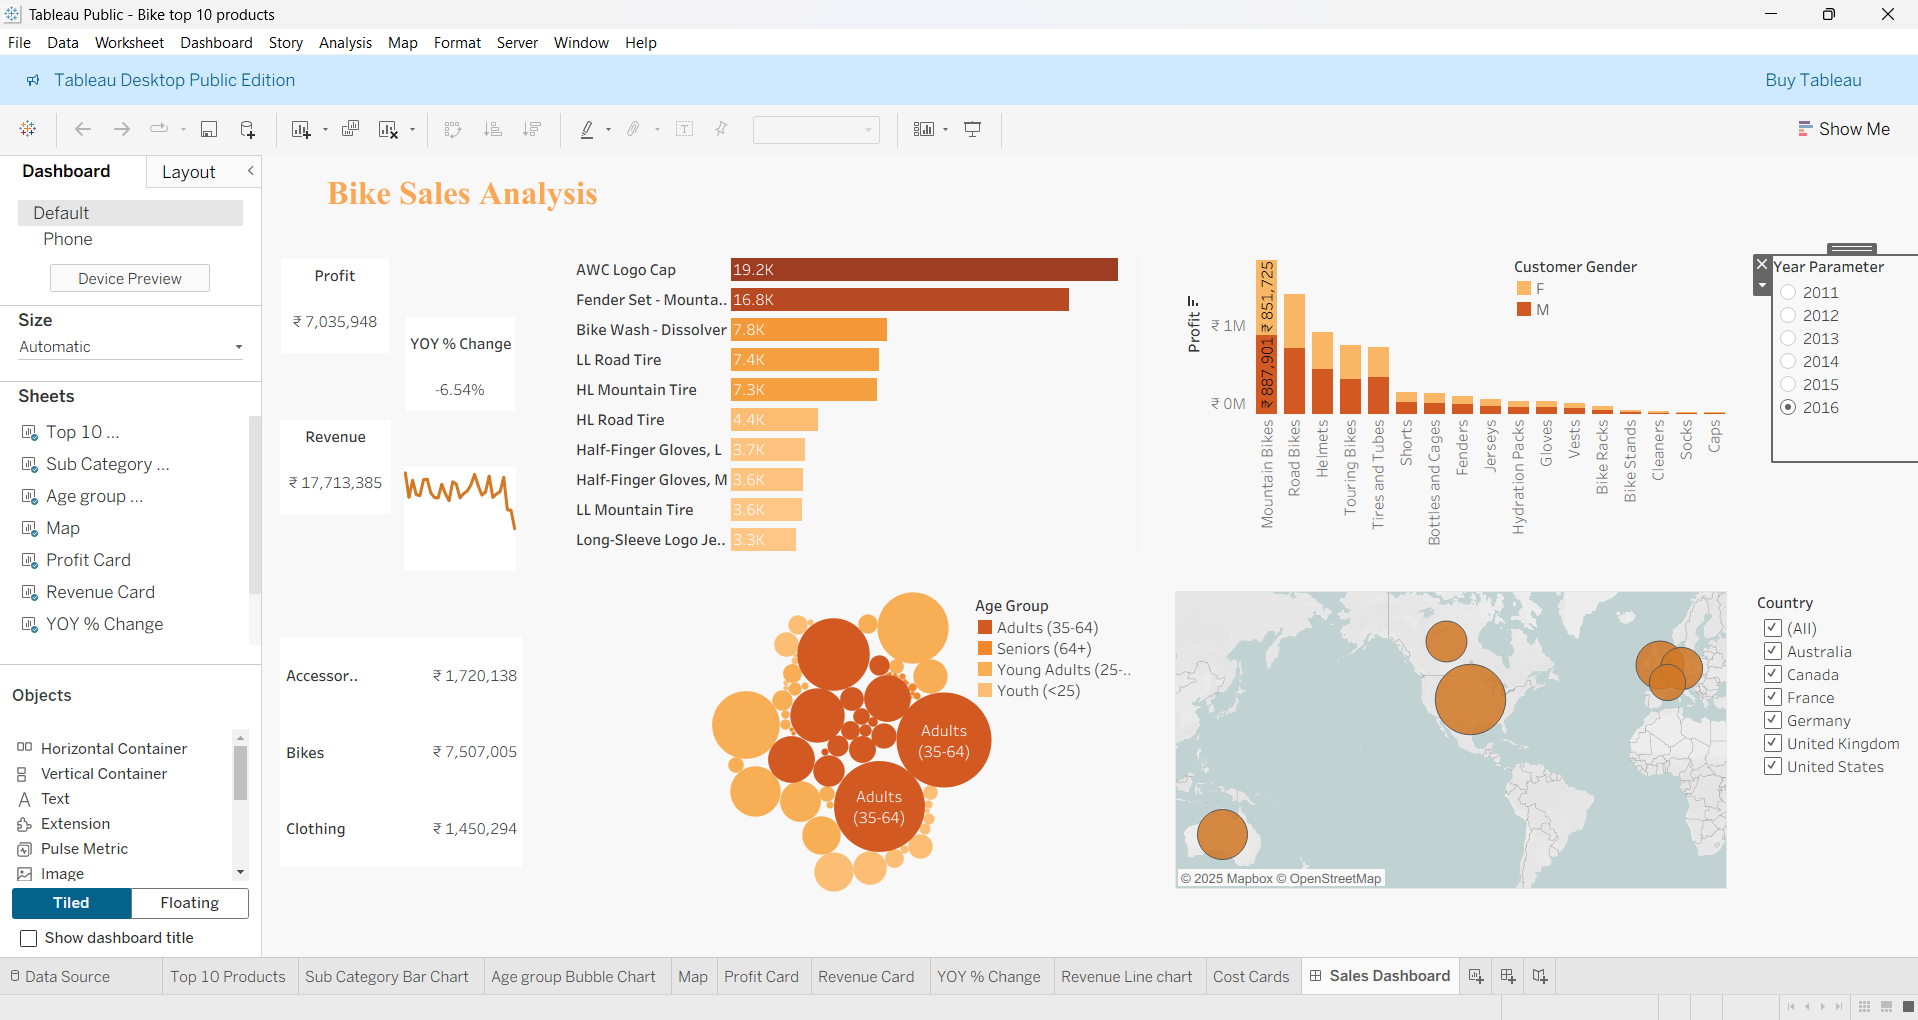

The dashboard page shown, as its layout file describes it:
{"tool":"tableau","page":{"name":" Sales Dashboard","canvas":[1000,1000],"units":"permille","ordinal":0},"visuals":[{"type":"title","box":[4.8,10,990.4,76.2]},{"type":"worksheet","title":"Sub Category Bar Chart","mark":"Automatic","rows":["Profit"],"cols":["Sub_Category"],"box":[551.6,121.1,333.1,377]},{"type":"worksheet","title":"Top 10 Products","mark":"Bar","rows":["Product"],"box":[185.9,123.6,343.4,375.8]},{"type":"legend","title":"Sub Category Bar Chart","param":"[federated.084s3g00idvons16idnnb0k239hq].[none:Customer_Gender:nk]","box":[755.6,126.1,84.5,79.9]},{"type":"worksheet","title":"Profit Card","mark":"Automatic","cols":["Calculation_1172624808899452929"],"box":[11.5,129.8,65.2,117.4]},{"type":"worksheet","title":"YOY % Change","mark":"Automatic","cols":["Calculation_1172624808908079114"],"box":[86.9,202.2,65.8,117.4]},{"type":"worksheet","title":"Revenue Card ","mark":"Automatic","cols":["Calculation_1172624808909504523"],"box":[10.9,330.8,67,117.4]},{"type":"worksheet","title":"Revenue Line chart","mark":"Automatic","rows":["Revenue"],"cols":["Date"],"box":[85.1,388.3,68.2,129.8]},{"type":"worksheet","title":"Age group Bubble Chart","mark":"Circle","box":[184.1,544.3,344,375.8]},{"type":"worksheet","title":"Map","mark":"Automatic","box":[551,544.3,333.1,372]},{"type":"filter","title":"Map","param":"[federated.084s3g00idvons16idnnb0k239hq].[none:Country:nk]","box":[902.1,545.6,96.1,236]},{"type":"legend","title":"Age group Bubble Chart","param":"[federated.084s3g00idvons16idnnb0k239hq].[none:Age_Group:nk]","box":[430,549.3,100.3,133.6]},{"type":"worksheet","title":"Cost Cards","mark":"Automatic","rows":["Product_Category"],"box":[10.9,601.8,146.1,287.1]}]}

Visuals, with their boxes on the dashboard's canvas, which has no fixed pixel size, in thousandths of its width and height (x1, y1, x2, y2). These are canvas units, not pixel positions in the 1918x1020 screenshot, which may show the page scaled, cropped or inside an application window:
title: {"left": 5, "top": 10, "right": 995, "bottom": 86}
"Sub Category Bar Chart" worksheet: {"left": 552, "top": 121, "right": 885, "bottom": 498}
"Top 10 Products" worksheet (Bar marks): {"left": 186, "top": 124, "right": 529, "bottom": 499}
"Sub Category Bar Chart" legend: {"left": 756, "top": 126, "right": 840, "bottom": 206}
"Profit Card" worksheet: {"left": 12, "top": 130, "right": 77, "bottom": 247}
"YOY % Change" worksheet: {"left": 87, "top": 202, "right": 153, "bottom": 320}
"Revenue Card " worksheet: {"left": 11, "top": 331, "right": 78, "bottom": 448}
"Revenue Line chart" worksheet: {"left": 85, "top": 388, "right": 153, "bottom": 518}
"Age group Bubble Chart" worksheet (Circle marks): {"left": 184, "top": 544, "right": 528, "bottom": 920}
"Map" worksheet: {"left": 551, "top": 544, "right": 884, "bottom": 916}
"Map" filter: {"left": 902, "top": 546, "right": 998, "bottom": 782}
"Age group Bubble Chart" legend: {"left": 430, "top": 549, "right": 530, "bottom": 683}
"Cost Cards" worksheet: {"left": 11, "top": 602, "right": 157, "bottom": 889}
